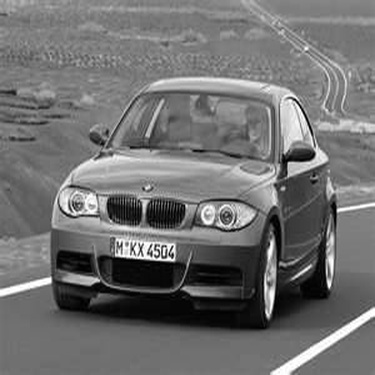car: (33, 67, 341, 338)
